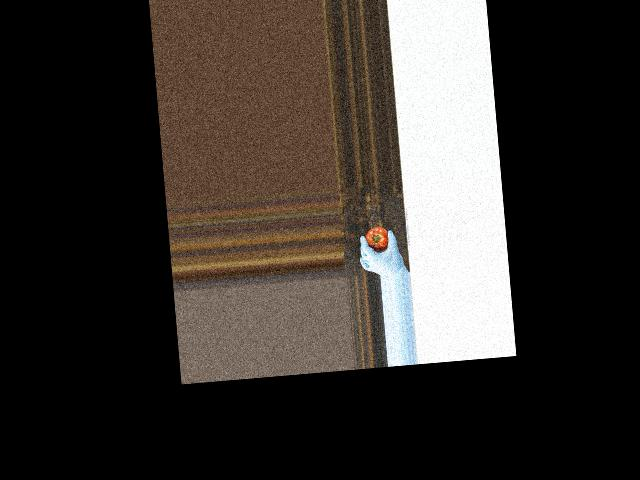tomato: (365, 225, 389, 252)
